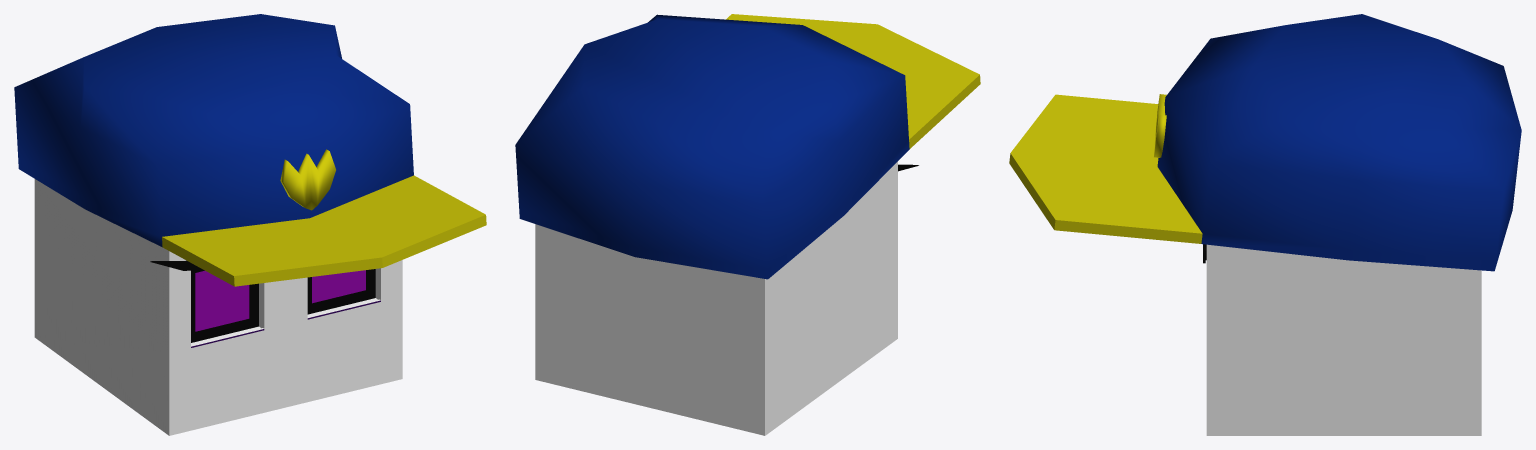
The model's file is CopCube.fbx.
The picture shows the model from 3 angles, left to right: view 1: azimuth 30°, elevation 25°; view 2: azimuth 150°, elevation 25°; view 3: azimuth 270°, elevation 25°; orthographic projection. The views are drawn at different scales.
Visible parts, largest first — view 1: CopHat, CopCube; view 2: CopHat, CopCube; view 3: CopHat, CopCube.
Part boxes in pixels (x1=…): CopHat: x1=14, y1=14, x2=486, y2=286; CopCube: x1=34, y1=179, x2=402, y2=435; CopHat: x1=515, y1=14, x2=980, y2=279; CopCube: x1=535, y1=161, x2=918, y2=435; CopHat: x1=1009, y1=14, x2=1521, y2=271; CopCube: x1=1203, y1=244, x2=1481, y2=435.
Size of the model in its own units: 235 by 373 by 250.
